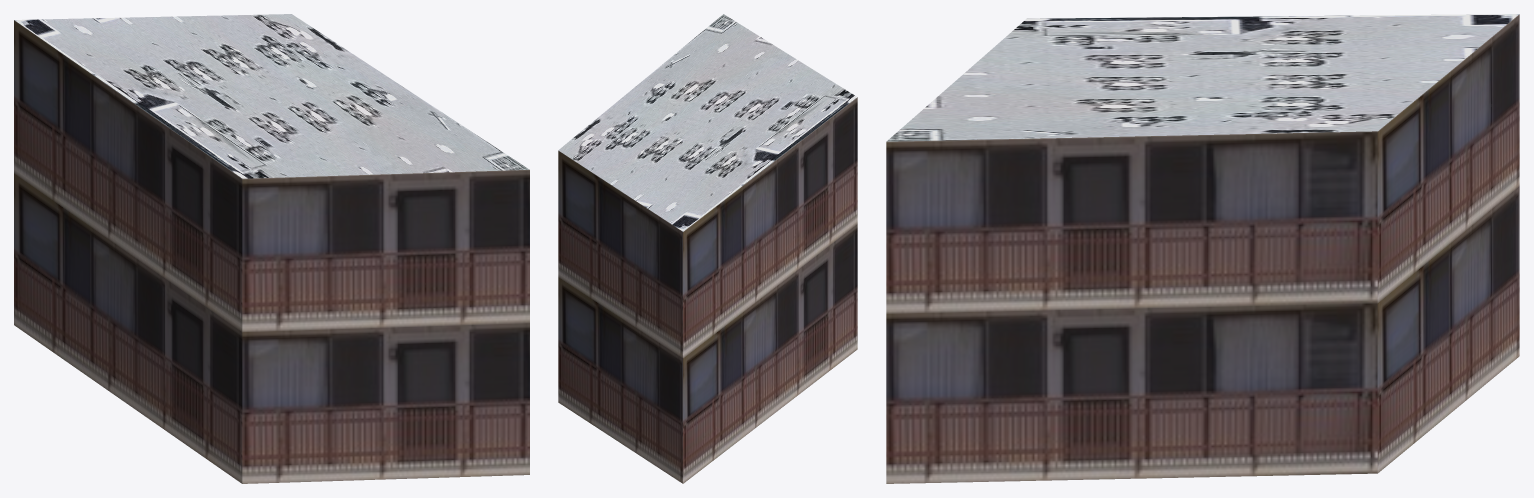
Rendered from ResTex__2439.fbx.
The picture shows the model from 3 angles, left to right: view 1: azimuth 30°, elevation 25°; view 2: azimuth 150°, elevation 25°; view 3: azimuth 270°, elevation 25°; orthographic projection. The views are drawn at different scales.
Parts seen in each view (by area): view 1: CityEngineMaterial_6_m, CityEngineMaterial_4_m; view 2: CityEngineMaterial_6_m, CityEngineMaterial_4_m; view 3: CityEngineMaterial_6_m, CityEngineMaterial_4_m.
Part boxes in pixels (x1,y1,x2,y2): CityEngineMaterial_6_m: [14, 20, 529, 483]; CityEngineMaterial_4_m: [14, 14, 529, 178]; CityEngineMaterial_6_m: [558, 97, 857, 483]; CityEngineMaterial_4_m: [558, 14, 857, 231]; CityEngineMaterial_6_m: [886, 14, 1519, 483]; CityEngineMaterial_4_m: [886, 14, 1519, 141].
Size of the model in its own units: 4.8 by 6 by 10.07.
Materials: 2 (2 with a texture image).
